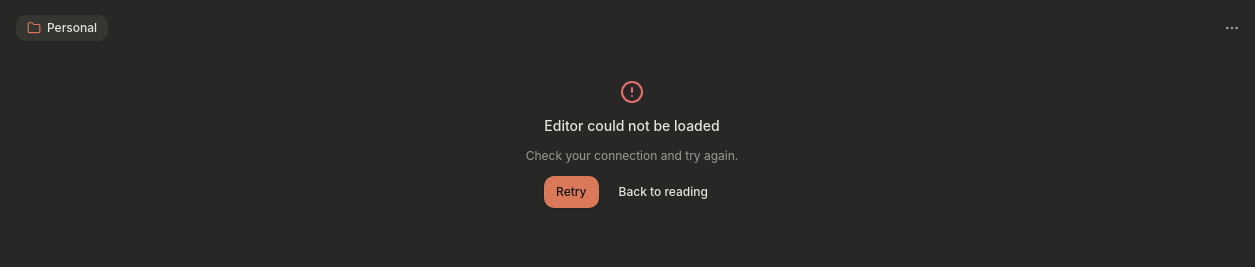
Test: NoteViewer when the editor chunk fails to load › shows an error instead of crashing, and Back to reading returns to the note
The image size is (1255, 267).
Expected: the text "Editor could not be loaded" is shown, [544,116,720,136]
Click the button "Back to reading".
click(663, 192)  # box [606,176,720,208]
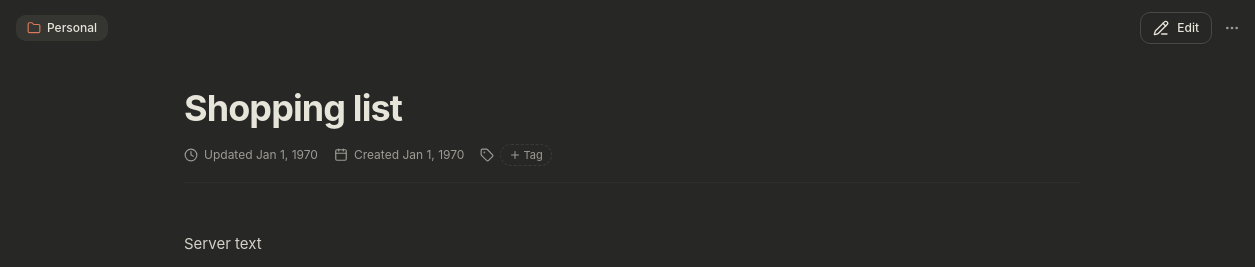
Expected: the text "Editor could not be loaded" is gone
Expected: the heading "Shopping list" is shown, [184,88,402,130]
Expected: the button "Edit" is shown, [1140,12,1212,44]
